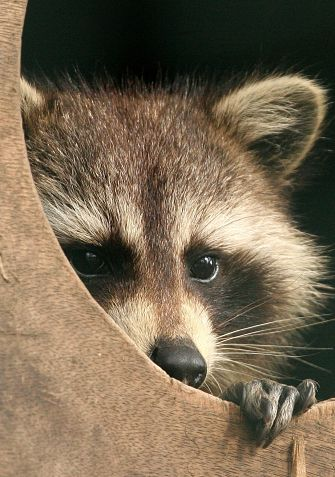raccoon: (10, 60, 335, 442)
